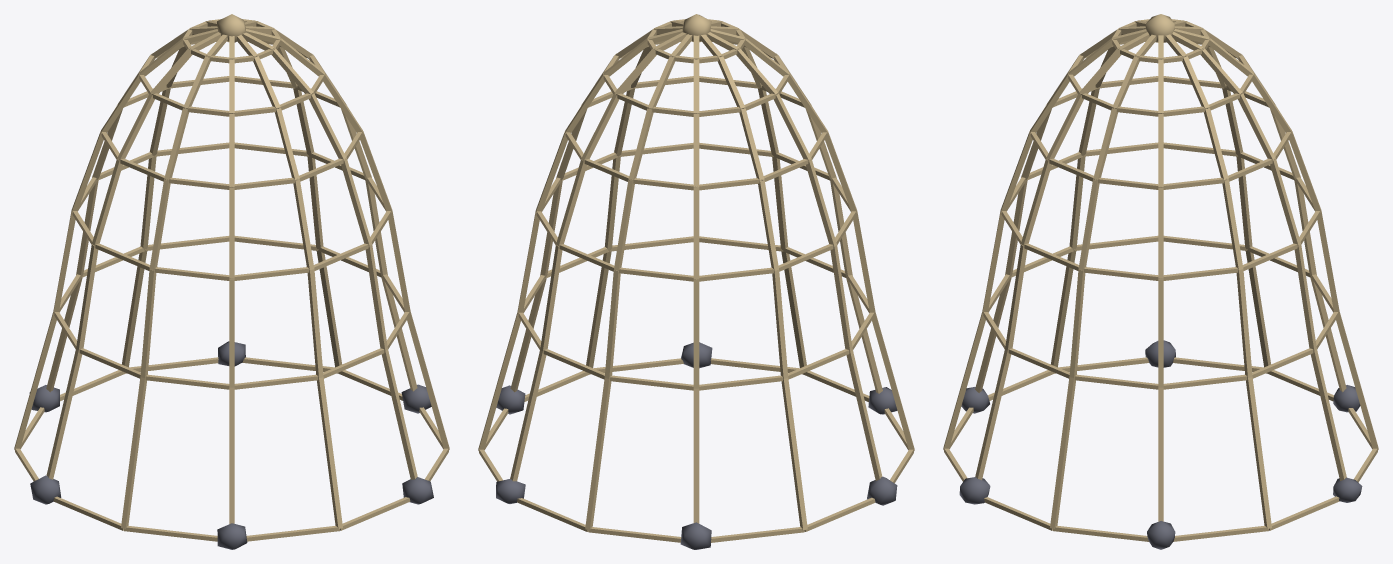
Rendered from net_cover.glb.
3 renders of one model, left to right at view 1: azimuth 30°, elevation 25°; view 2: azimuth 150°, elevation 25°; view 3: azimuth 270°, elevation 25°, orthographic.
Parts seen in each view (by area): view 1: rope; view 2: rope; view 3: rope.
Boxes of the visible parts, left/top/right/bottom form: rope: left=14, top=14, right=449, bottom=549; rope: left=478, top=14, right=914, bottom=549; rope: left=943, top=14, right=1378, bottom=549.
Size of the model in its own units: 1.9 by 2.02 by 1.79.
